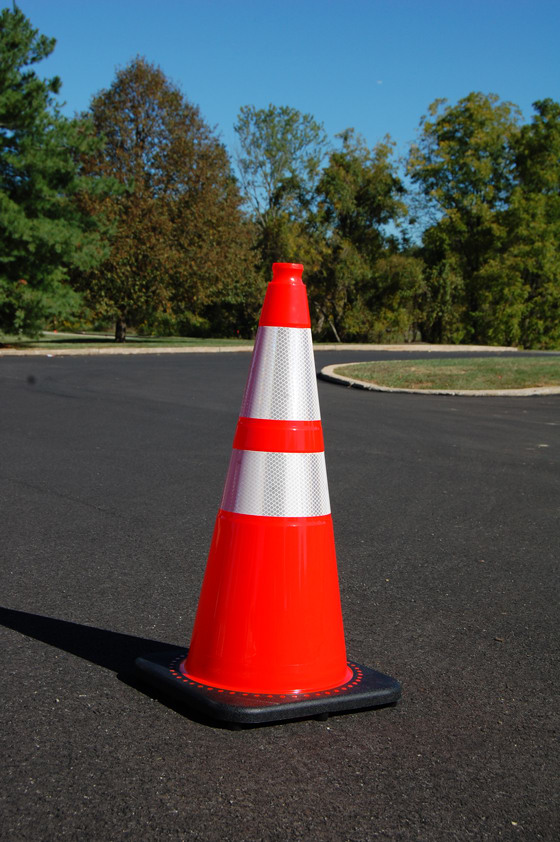cones: (152, 258, 410, 731)
